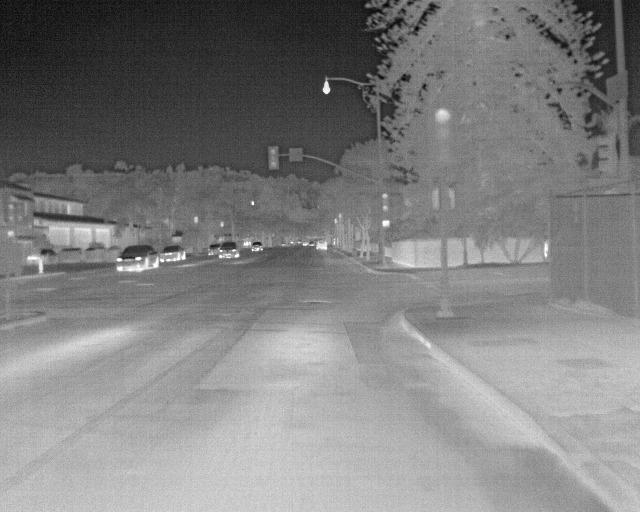car: (114, 245, 158, 276), (157, 245, 187, 262), (52, 246, 82, 262), (81, 244, 107, 262), (219, 241, 241, 259), (34, 249, 55, 264), (207, 241, 220, 256), (314, 238, 329, 251), (249, 241, 265, 253)
